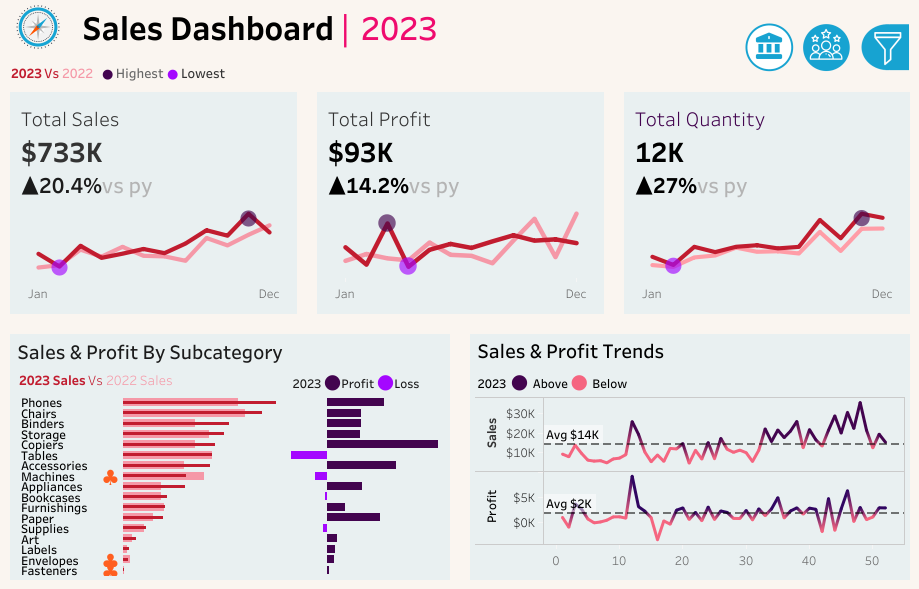

Layout of this report page (visuals, bound fields, positions):
{"tool":"tableau","page":{"name":"Sales Dashboard","canvas":[920,590],"ordinal":1},"visuals":[{"type":"image","param":"E:/projects/raw/Sales Dashboard Materials/Dashboard Icons/Icon - Logo.png","box":[0,0,76,54]},{"type":"text","box":[76,0,593,54]},{"type":"blank","box":[761,5,152,32]},{"type":"dashboard-object","box":[741,19,57,57]},{"type":"dashboard-object","box":[798,19,58,57]},{"type":"dashboard-object","box":[856,19,58,57]},{"type":"text","box":[761,37,152,34]},{"type":"worksheet","title":"Legend Kpi","mark":"Automatic","box":[0,54,920,38]},{"type":"parameter","param":"[Parameters].[Parameter 1]","box":[761,71,152,52]},{"type":"worksheet","title":"Total Sales","mark":"Automatic","rows":["Calculation_492299784881152005"],"cols":["Order Date"],"box":[0,92,307,232]},{"type":"worksheet","title":"Total Profit","mark":"Automatic","rows":["Min/Max (copy)_92042368334028807"],"cols":["Order Date"],"box":[307,92,307,232]},{"type":"worksheet","title":"Total Quantity","mark":"Automatic","rows":["Min/Max (profit) (copy)_92042368458317849"],"cols":["Order Date"],"box":[614,92,306,232]},{"type":"text","box":[761,123,152,25]},{"type":"blank","box":[761,148,152,39]},{"type":"filter","title":"Total Sales","param":"[federated.0tnq23c1e60oz2112m6gy0vhg2d8].[none:Category:nk]","box":[761,187,152,52]},{"type":"filter","title":"Total Sales","param":"[federated.0tnq23c1e60oz2112m6gy0vhg2d8].[none:Sub-Category:nk]","box":[761,239,152,52]},{"type":"text","box":[761,333,152,25]},{"type":"text","box":[11,335,438,32]},{"type":"text","box":[471,335,438,30.1]},{"type":"filter","title":"Total Sales","param":"[federated.0tnq23c1e60oz2112m6gy0vhg2d8].[none:Region:nk]","box":[761,358,152,52]},{"type":"text","box":[471,365.1,438,27.9]},{"type":"worksheet","title":"Legend Subcategory","mark":"Automatic","box":[11,367,275,26]},{"type":"text","box":[286,367,163,26]},{"type":"worksheet","title":"Sales/Profit By Subcategory","mark":"Bar","rows":["Sub-Category","Calculation_92042368421814288"],"cols":["Cyear (copy)_492299784867987458","Calculation_492299784865640448","CY(sales) (copy)_92042368333402116"],"box":[11,393,438,186]},{"type":"worksheet","title":"Weekly Sales/Profit","mark":"Automatic","rows":["Calculation_492299784865640448","CY(sales) (copy)_92042368333402116"],"cols":["Order Date"],"box":[471,393,438,186]},{"type":"filter","title":"Total Sales","param":"[federated.0tnq23c1e60oz2112m6gy0vhg2d8].[none:State:nk]","box":[761,410,152,52]},{"type":"filter","title":"Total Sales","param":"[federated.0tnq23c1e60oz2112m6gy0vhg2d8].[none:City:nk]","box":[761,462,152,52]}]}

Visuals, with their boxes in screenshot pixels (x1, y1, x2, y2), scaled from the page's 920x590 canvas onto the 919x589 screenshot:
image: {"left": 0, "top": 0, "right": 76, "bottom": 54}
text: {"left": 76, "top": 0, "right": 668, "bottom": 54}
blank: {"left": 760, "top": 5, "right": 912, "bottom": 37}
dashboard-object: {"left": 740, "top": 19, "right": 797, "bottom": 76}
dashboard-object: {"left": 797, "top": 19, "right": 855, "bottom": 76}
dashboard-object: {"left": 855, "top": 19, "right": 913, "bottom": 76}
text: {"left": 760, "top": 37, "right": 912, "bottom": 71}
"Legend Kpi" worksheet: {"left": 0, "top": 54, "right": 918, "bottom": 92}
parameter: {"left": 760, "top": 71, "right": 912, "bottom": 123}
"Total Sales" worksheet: {"left": 0, "top": 92, "right": 307, "bottom": 323}
"Total Profit" worksheet: {"left": 307, "top": 92, "right": 613, "bottom": 323}
"Total Quantity" worksheet: {"left": 613, "top": 92, "right": 918, "bottom": 323}
text: {"left": 760, "top": 123, "right": 912, "bottom": 148}
blank: {"left": 760, "top": 148, "right": 912, "bottom": 187}
"Total Sales" filter: {"left": 760, "top": 187, "right": 912, "bottom": 239}
"Total Sales" filter: {"left": 760, "top": 239, "right": 912, "bottom": 291}
text: {"left": 760, "top": 332, "right": 912, "bottom": 357}
text: {"left": 11, "top": 334, "right": 449, "bottom": 366}
text: {"left": 470, "top": 334, "right": 908, "bottom": 364}
"Total Sales" filter: {"left": 760, "top": 357, "right": 912, "bottom": 409}
text: {"left": 470, "top": 364, "right": 908, "bottom": 392}
"Legend Subcategory" worksheet: {"left": 11, "top": 366, "right": 286, "bottom": 392}
text: {"left": 286, "top": 366, "right": 449, "bottom": 392}
"Sales/Profit By Subcategory" worksheet (Bar marks): {"left": 11, "top": 392, "right": 449, "bottom": 578}
"Weekly Sales/Profit" worksheet: {"left": 470, "top": 392, "right": 908, "bottom": 578}
"Total Sales" filter: {"left": 760, "top": 409, "right": 912, "bottom": 461}
"Total Sales" filter: {"left": 760, "top": 461, "right": 912, "bottom": 513}
